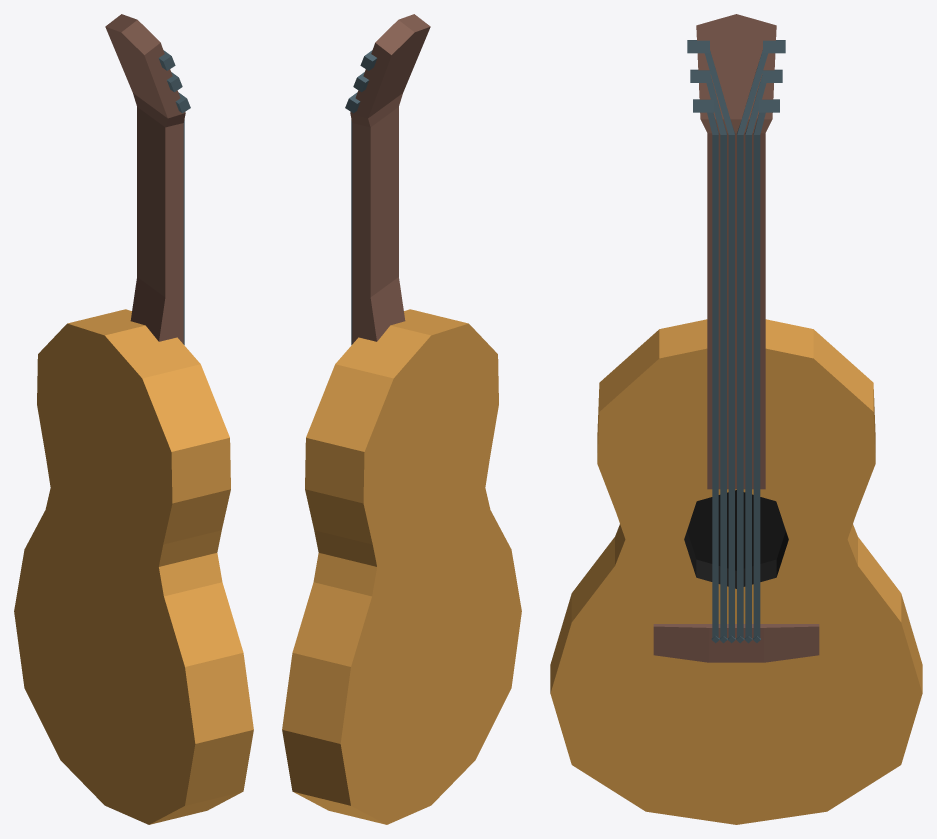
Rendered from guitar.gltf.
3 views of the same model, side by side, from view 1: azimuth 30°, elevation 25°; view 2: azimuth 150°, elevation 25°; view 3: azimuth 270°, elevation 25° (orthographic). The views are drawn at different scales.
Visible parts, largest first — view 1: node-0; view 2: node-0; view 3: node-0.
Boxes of the visible parts, bbox=[...] form: node-0: bbox=[14, 14, 253, 824]; node-0: bbox=[282, 14, 521, 824]; node-0: bbox=[550, 14, 922, 824].
Bounding box in the file's own units: 2.16 × 23.07 × 9.75.
